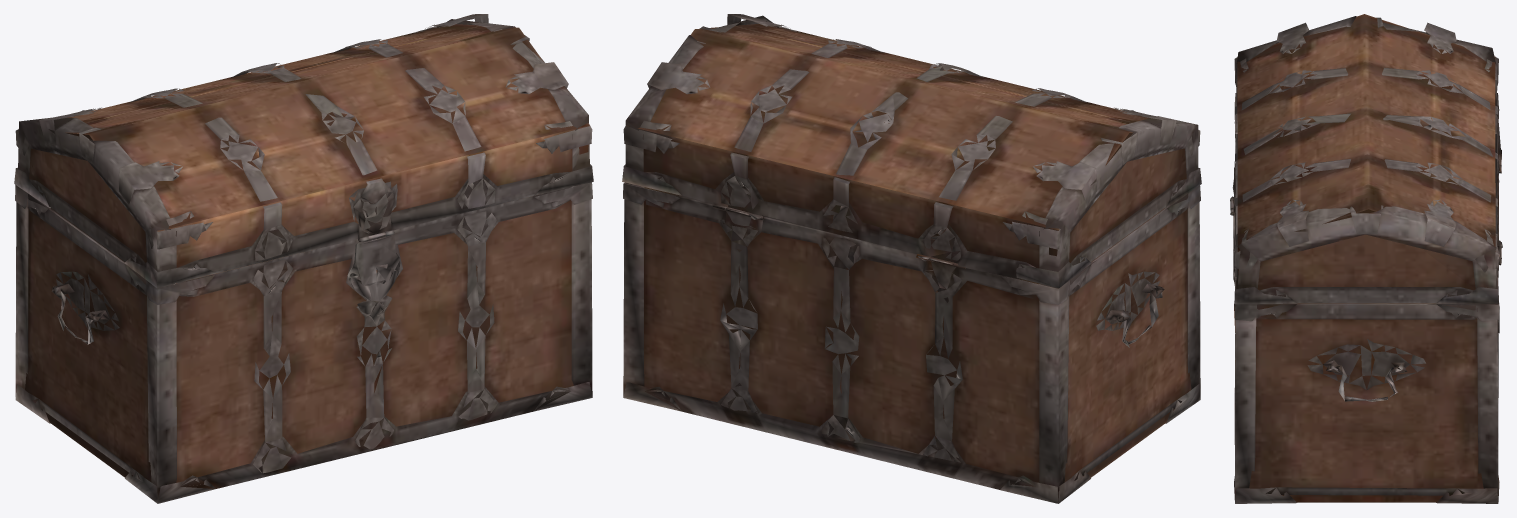
The model's file is treasure_chest.glb.
3 views of the same model, side by side, from view 1: azimuth 30°, elevation 25°; view 2: azimuth 150°, elevation 25°; view 3: azimuth 270°, elevation 25° (orthographic). The views are drawn at different scales.
Visible parts, largest first — view 1: lod0; view 2: lod0; view 3: lod0.
Part boxes in pixels (x1,y1,x2,y2): lod0: (14, 14, 593, 503); lod0: (622, 14, 1201, 503); lod0: (1230, 14, 1502, 503).
Size of what is drawn, in the model's own units: 1.75 by 1.14 by 0.9566.
1 material, 1 textured.
